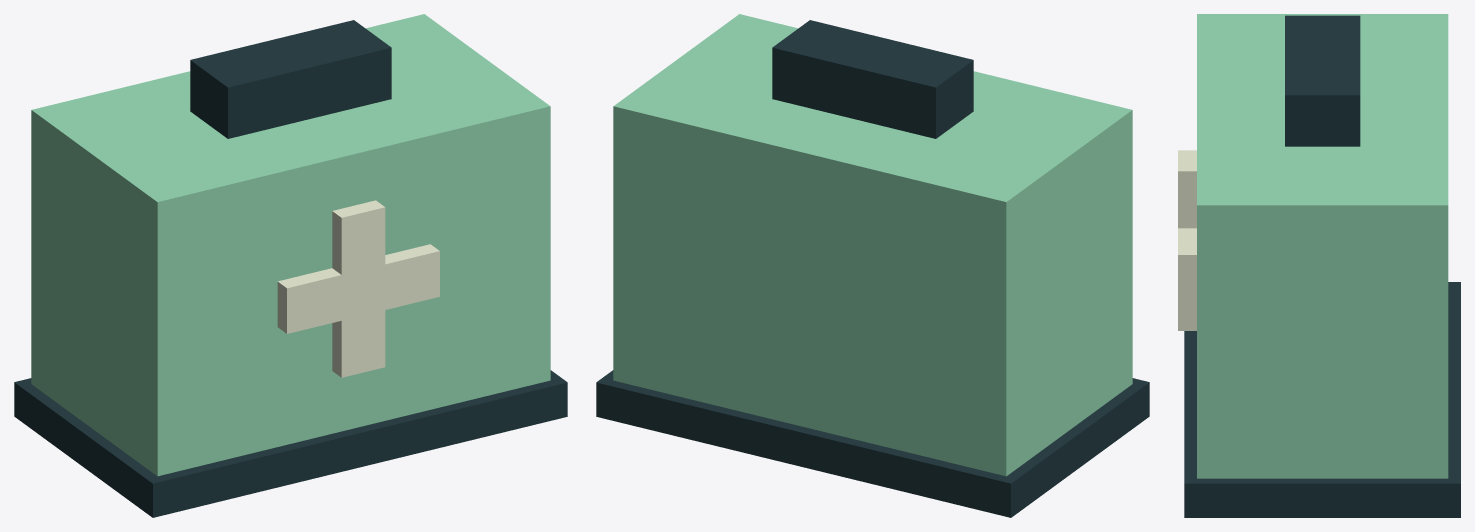
The model's file is repair-kit.glb.
The picture shows the model from 3 angles, left to right: view 1: azimuth 30°, elevation 25°; view 2: azimuth 150°, elevation 25°; view 3: azimuth 270°, elevation 25°; orthographic projection.
Visible parts, largest first — view 1: case, foot, handle, badge-y, badge-x; view 2: case, foot, handle; view 3: case, foot, handle, badge-y, badge-x.
Part boxes in pixels (box(x1,y1,x2,y2)): case: box(31, 14, 550, 476); foot: box(14, 370, 567, 517); handle: box(190, 20, 391, 138); badge-y: box(332, 200, 385, 377); badge-x: box(277, 244, 439, 333); case: box(613, 14, 1132, 476); foot: box(596, 370, 1149, 517); handle: box(772, 20, 973, 138); case: box(1197, 14, 1448, 478); foot: box(1184, 282, 1460, 517); handle: box(1285, 15, 1360, 146); badge-y: box(1178, 150, 1196, 330); badge-x: box(1178, 228, 1196, 300).
Bounding box in the file's own units: 0.76 × 0.635 × 0.45.
